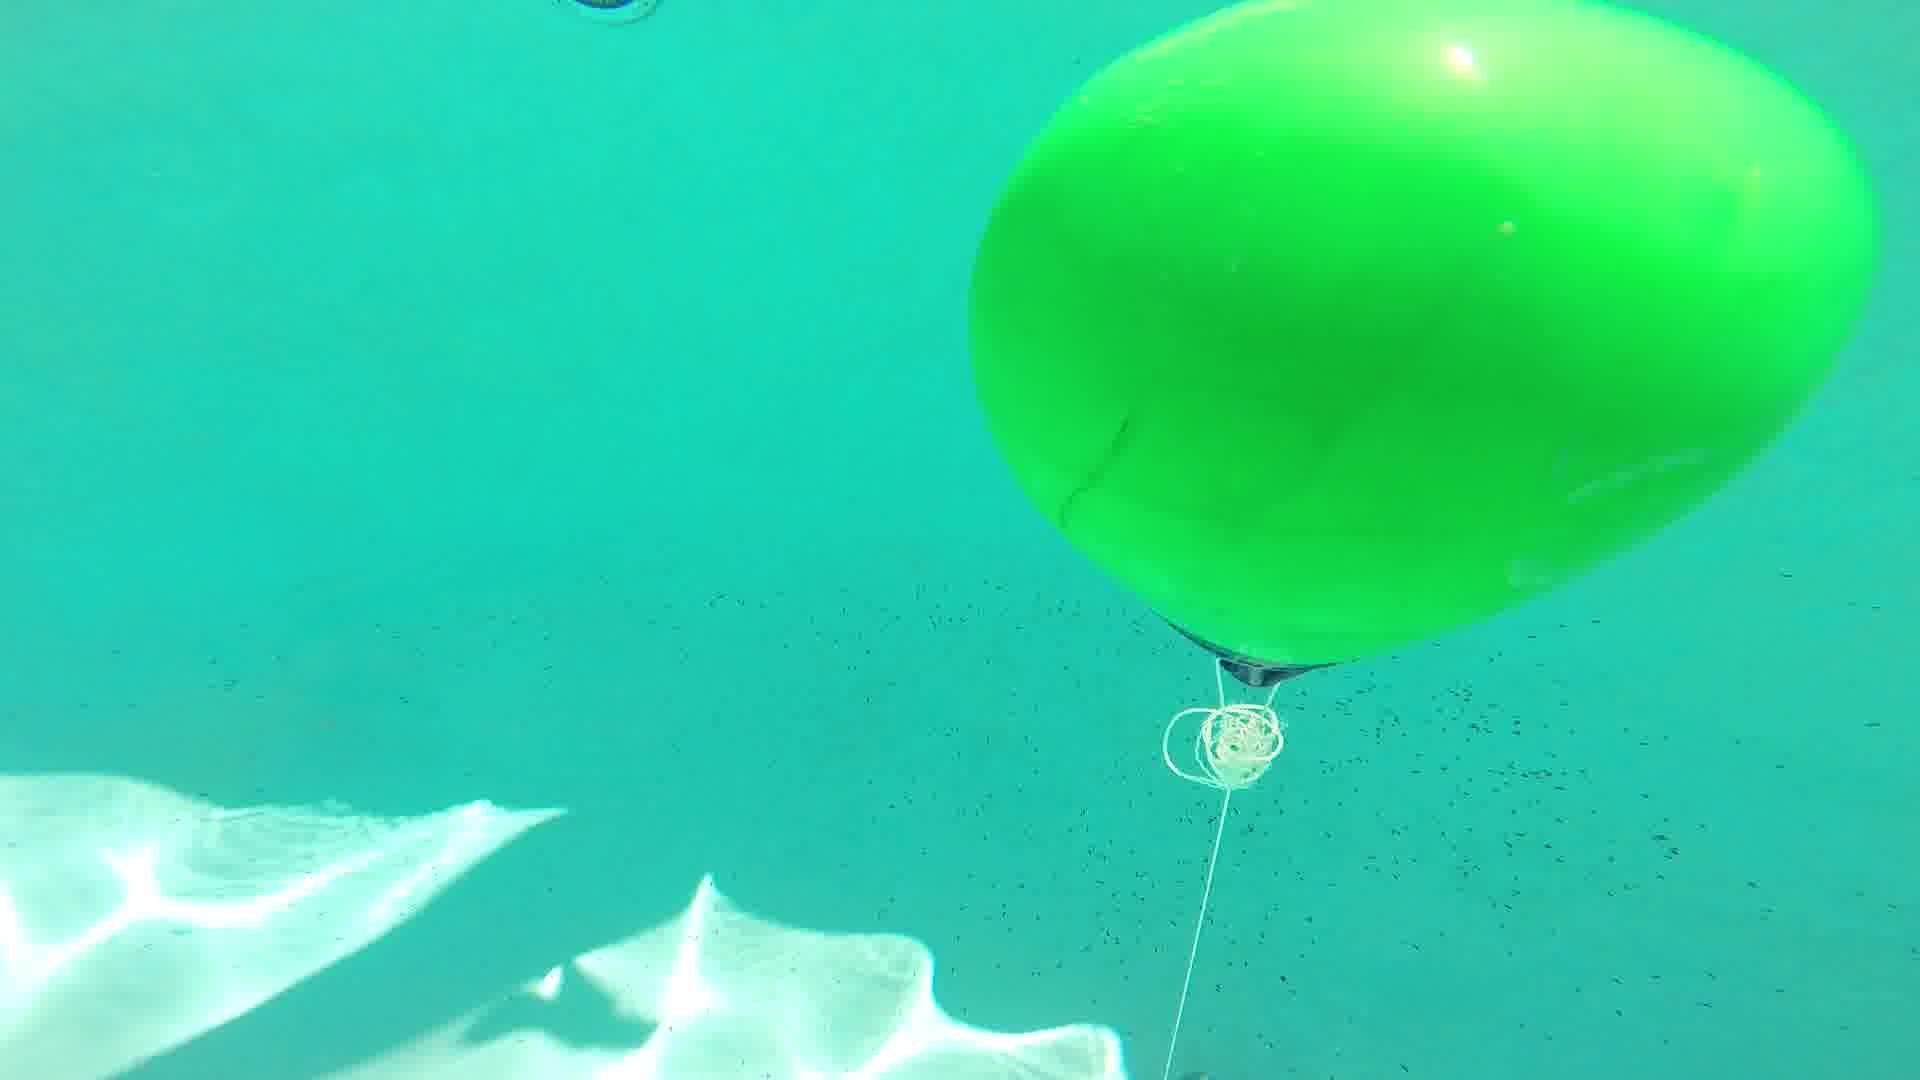yellow_buoy: (959, 1, 1866, 723)
